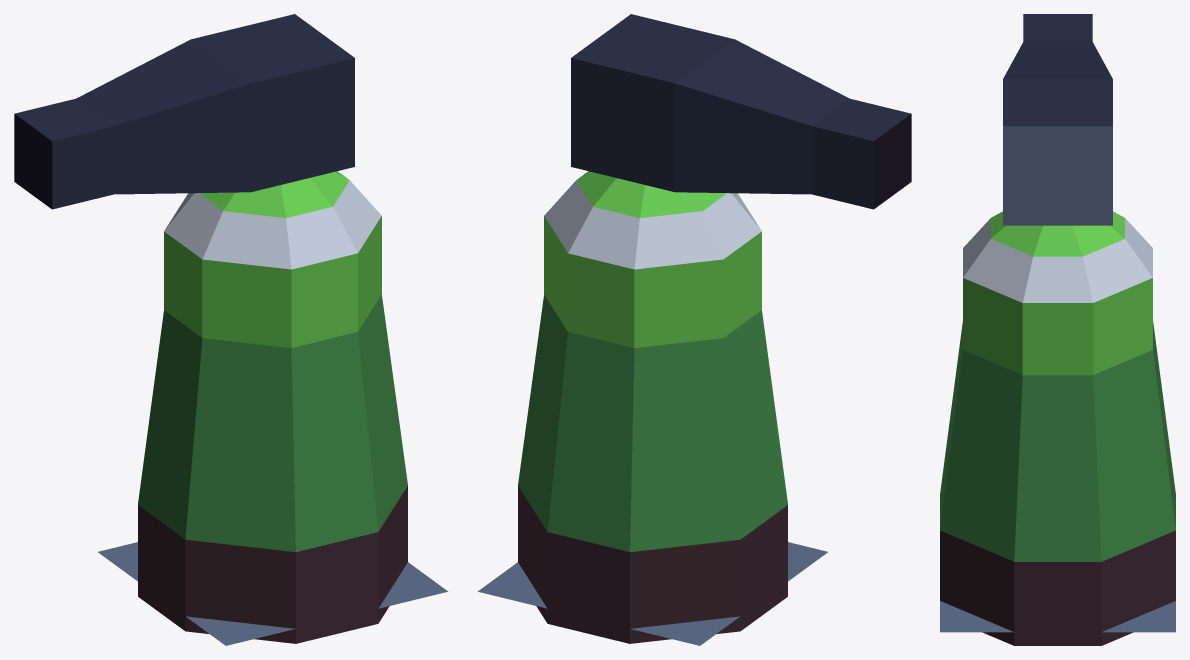
File: tower2.glb
3 views of the same model, side by side, from view 1: azimuth 30°, elevation 25°; view 2: azimuth 150°, elevation 25°; view 3: azimuth 270°, elevation 25° (orthographic). The views are drawn at different scales.
Parts seen in each view (by area): view 1: Cube, gun, gun.001; view 2: Cube, gun, gun.001; view 3: Cube, gun, gun.001.
Boxes of the visible parts, x1,y1,x2,y2 form: Cube: (138, 171, 407, 643); gun: (14, 14, 354, 209); gun.001: (98, 542, 447, 645); Cube: (518, 171, 787, 643); gun: (571, 14, 911, 209); gun.001: (478, 542, 827, 645); Cube: (940, 211, 1175, 645); gun: (1003, 14, 1112, 225); gun.001: (940, 601, 1175, 632).
Bounding box in the file's own units: 3.15 × 4.62 × 2.
Materials: 1 (1 with a texture image).
